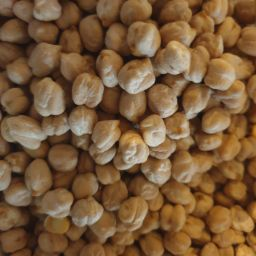White Chickpeas: (4, 5, 250, 256), (32, 133, 229, 246), (136, 21, 250, 182), (81, 22, 181, 138), (9, 12, 70, 140)
